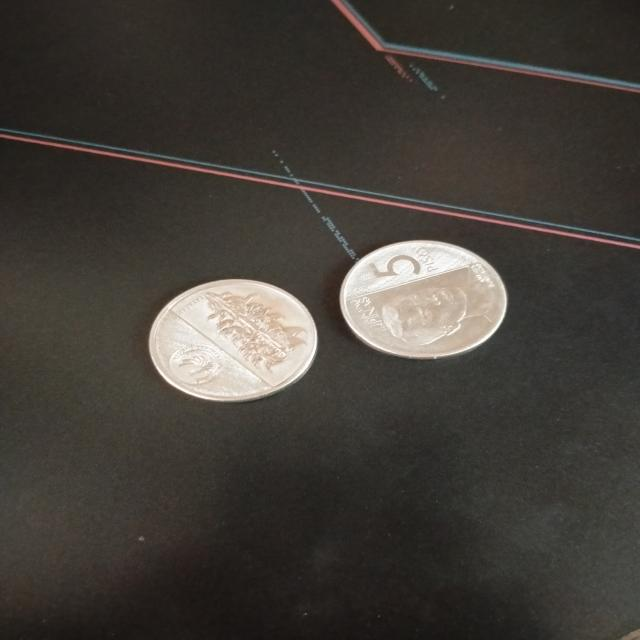5_New_Back: (195, 278, 322, 374)
5_New_Front: (359, 242, 454, 278)
